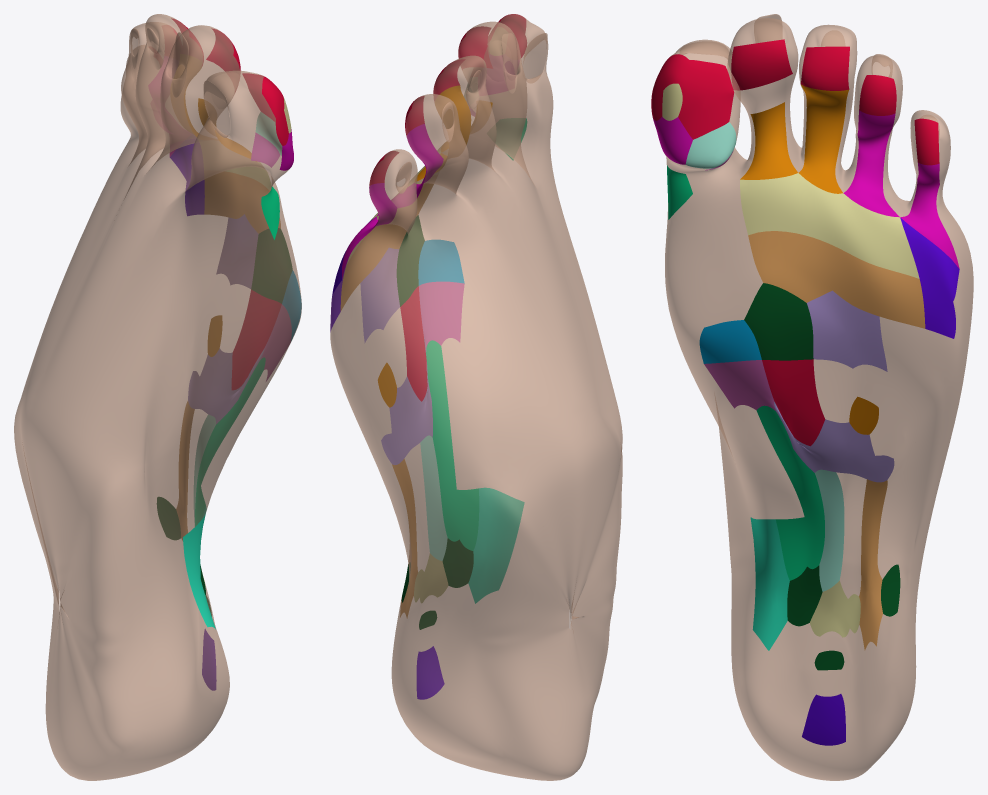
Rendered from model kiri.fbx.
3 renders of one model, left to right at view 1: azimuth 30°, elevation 25°; view 2: azimuth 150°, elevation 25°; view 3: azimuth 270°, elevation 25°, orthographic. The views are drawn at different scales.
Visible parts, largest first — view 1: Cube; view 2: Cube; view 3: Cube.
Boxes of the visible parts, box(x1,y1,x2,y2) form: Cube: box(14, 14, 301, 780); Cube: box(330, 14, 622, 780); Cube: box(651, 14, 973, 780).
Size of the model in its own units: 1.04 by 3.35 by 1.28.
